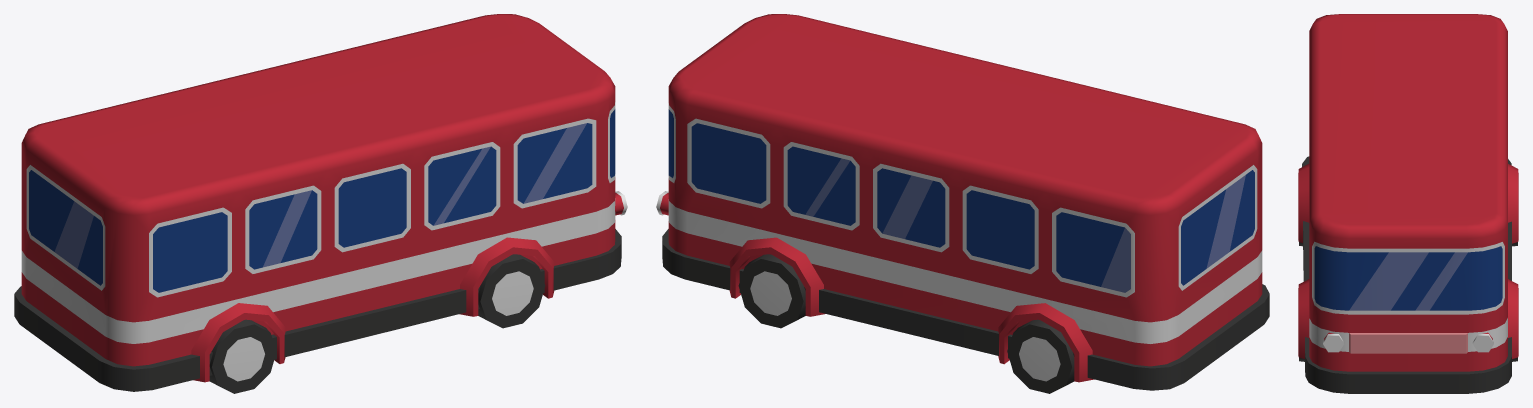
The model's file is bus.fbx.
The picture shows the model from 3 angles, left to right: view 1: azimuth 30°, elevation 25°; view 2: azimuth 150°, elevation 25°; view 3: azimuth 270°, elevation 25°; orthographic projection. The views are drawn at different scales.
Visible parts, largest first — view 1: bus_color, bus, bus_wheel; view 2: bus_color, bus, bus_wheel; view 3: bus_color, bus.
Part boxes in pixels (x1,y1,x2,y2): bus_color: (21,14,623,382); bus: (14,102,627,391); bus_wheel: (209,254,545,393); bus_color: (660,14,1262,382); bus: (656,103,1269,390); bus_wheel: (738,254,1074,393); bus_color: (1298,14,1518,371); bus: (1302,156,1511,393).
Size of the model in its own units: 25.49 by 9.71 by 10.57.
